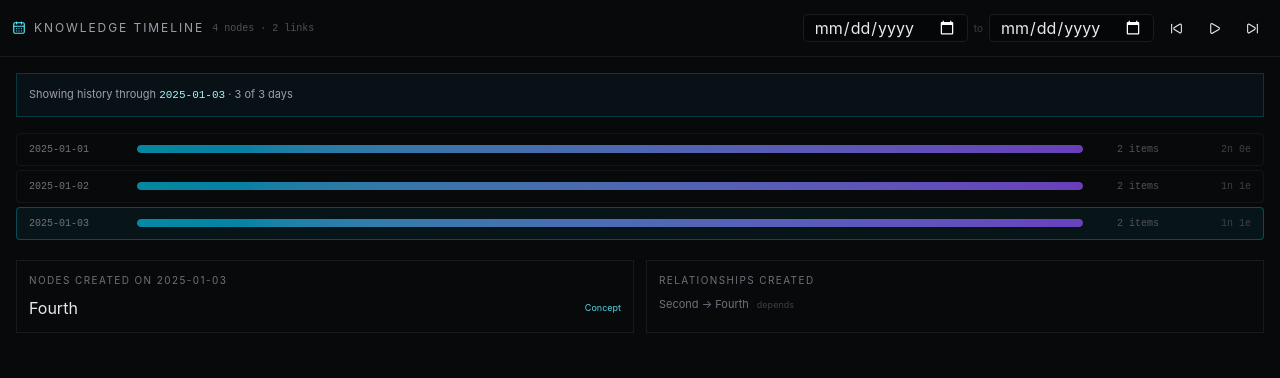
it: TimelineExplorer › reduces visible nodes and links when an earlier day is selected
Click the button "2025-01-01 2 items 2n 0e" at (640, 149), box [16,132,1264,166]
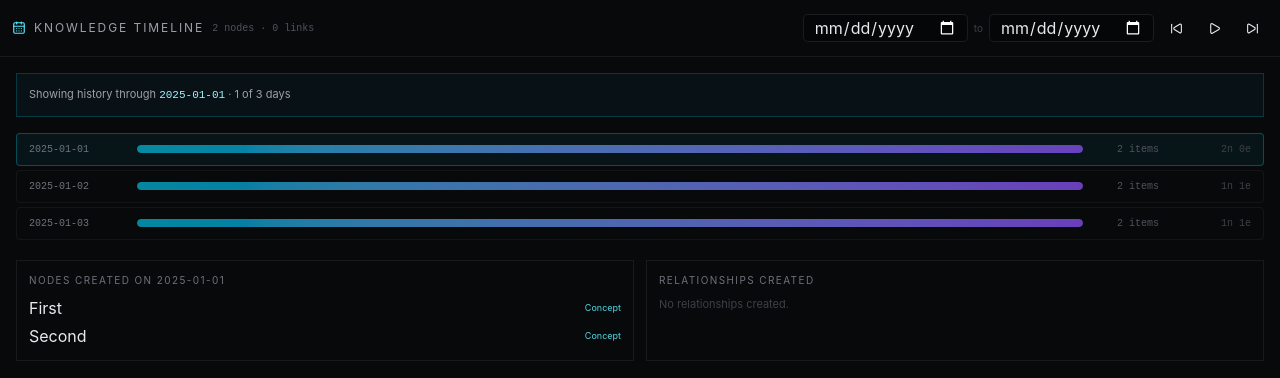
Expected: the text "Showing history through 2025-01-01 · 1 of 3 days" is shown, [16,73,1264,116]
Expected: the text "2 nodes · 0 links" is shown, [212,20,314,36]
